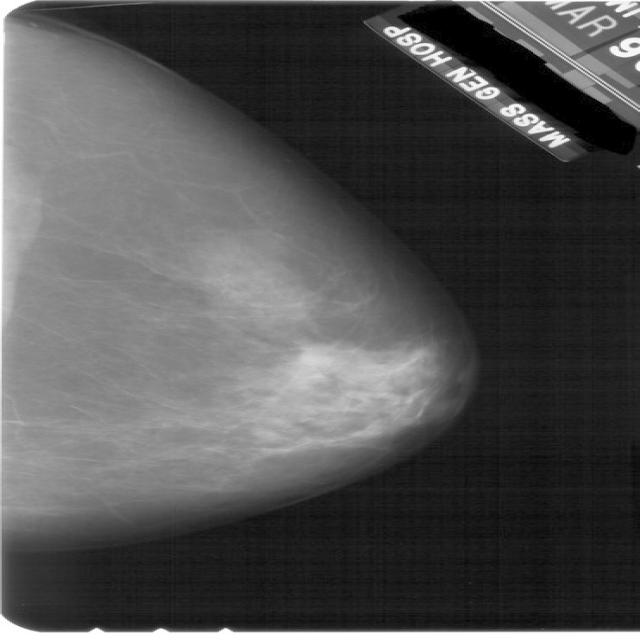tumour: (293, 344, 345, 369)
